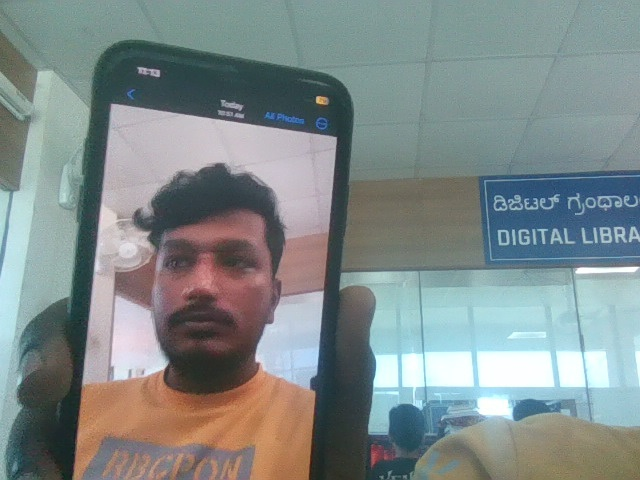fake: (125, 141, 297, 385)
